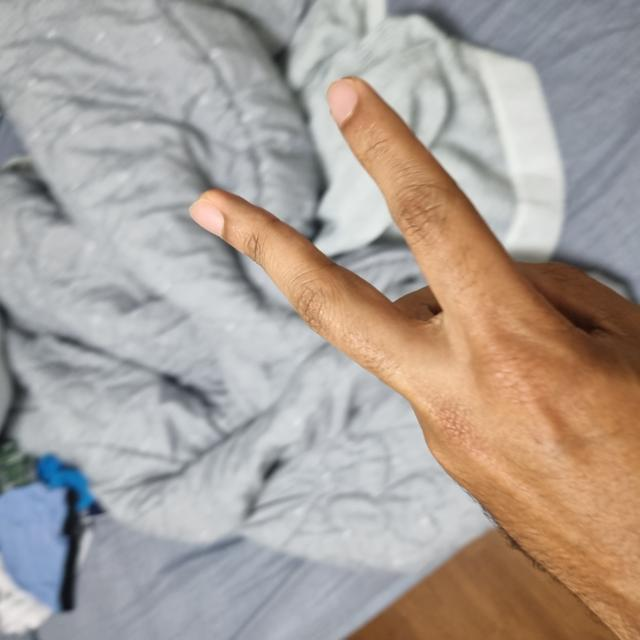Scissors: (2, 194, 563, 639)
